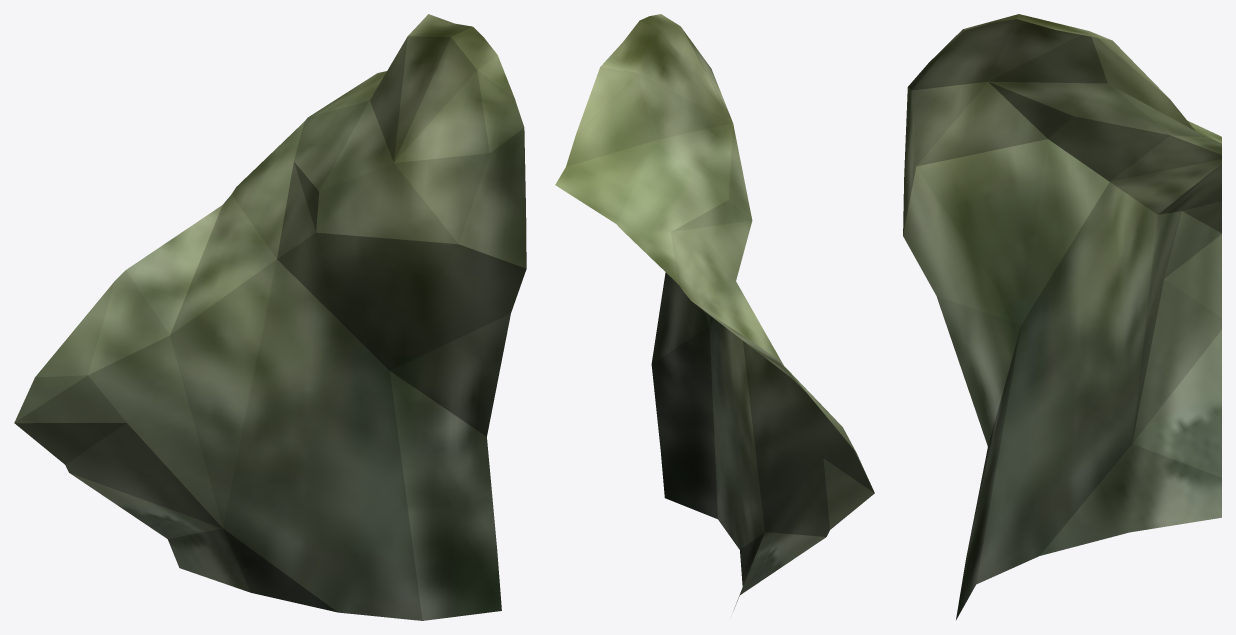
3 views of the same model, side by side, from view 1: azimuth 30°, elevation 25°; view 2: azimuth 150°, elevation 25°; view 3: azimuth 270°, elevation 25° (orthographic). The views are drawn at different scales.
Bounding box in the file's own units: 0.6658 × 0.9871 × 0.4741.
1 material, 1 textured.
